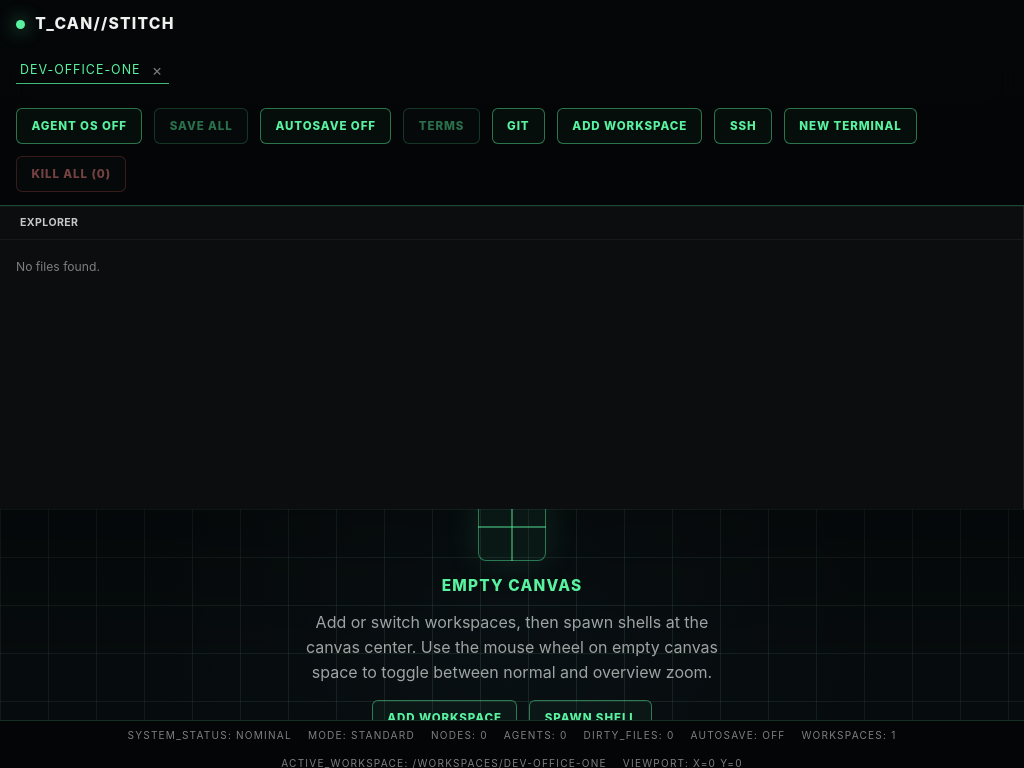
Test: Hermes workspace mode › toggles AGENT OS and persists the workspace mode
Click the button "AGENT OS OFF" at (79, 126), box [16, 108, 142, 144]
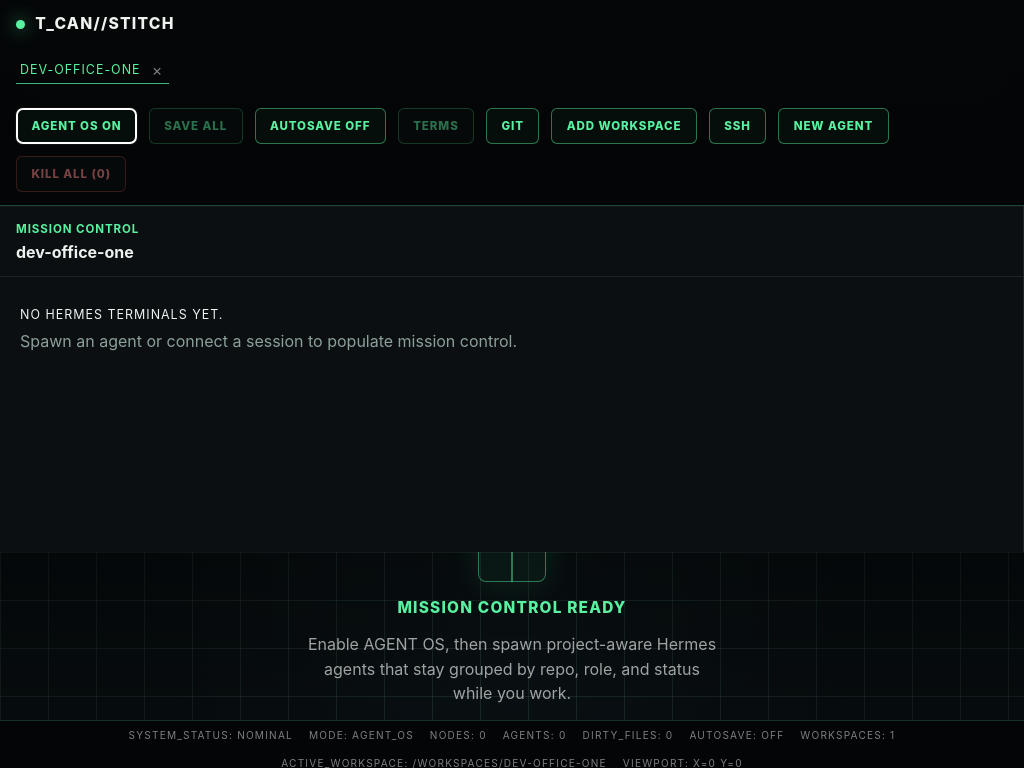
Expected: the text "Mission Control" is shown, [16, 222, 139, 236]
